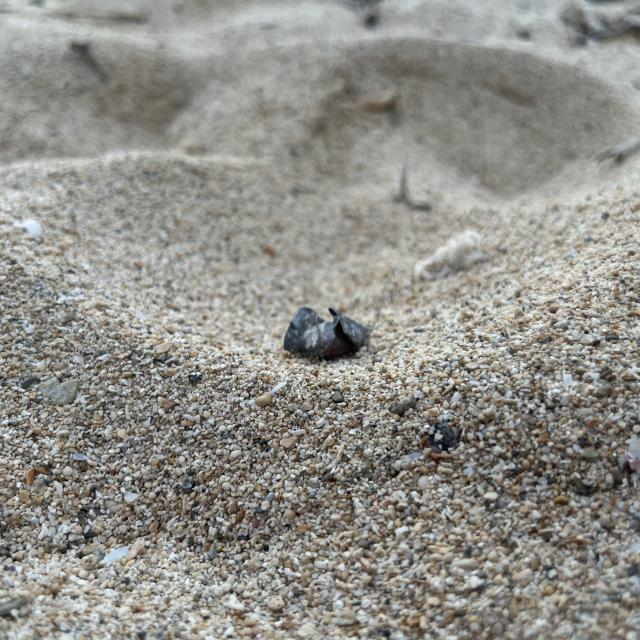trash: (278, 293, 374, 372)
